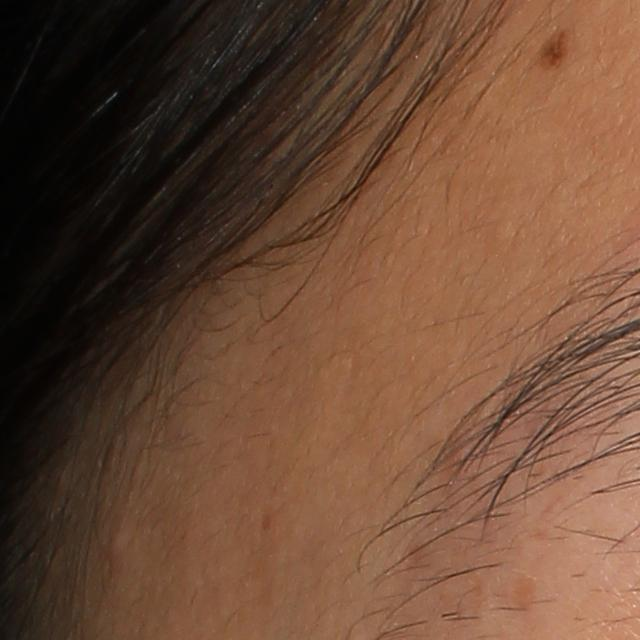nevus: (529, 27, 569, 72)
